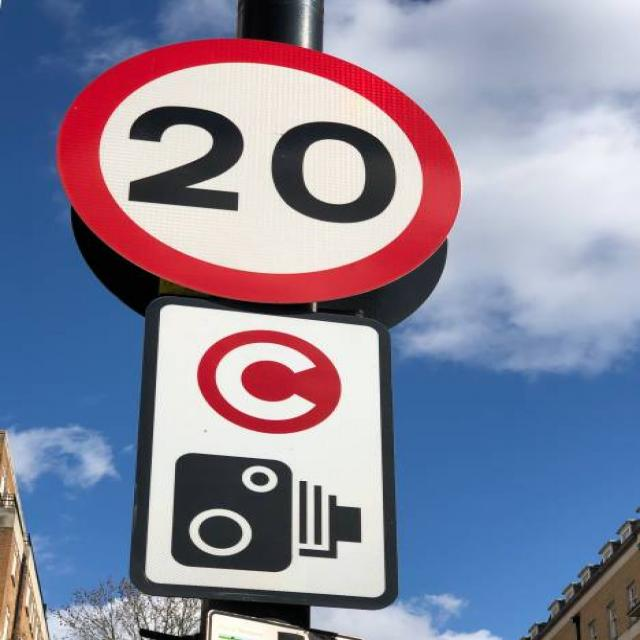speed_limit_20: (43, 29, 501, 297)
